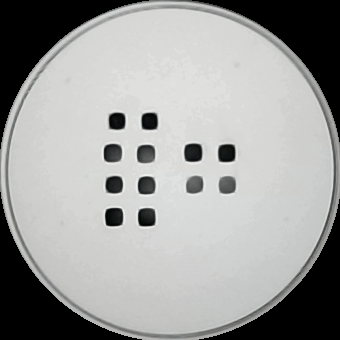检查点: (180, 141, 205, 164), (105, 110, 130, 132), (216, 143, 239, 166), (102, 173, 125, 196), (135, 143, 158, 165), (216, 174, 239, 196), (103, 206, 125, 229), (135, 207, 159, 228), (139, 111, 161, 132), (103, 143, 125, 163), (185, 174, 205, 195), (137, 175, 157, 196)
